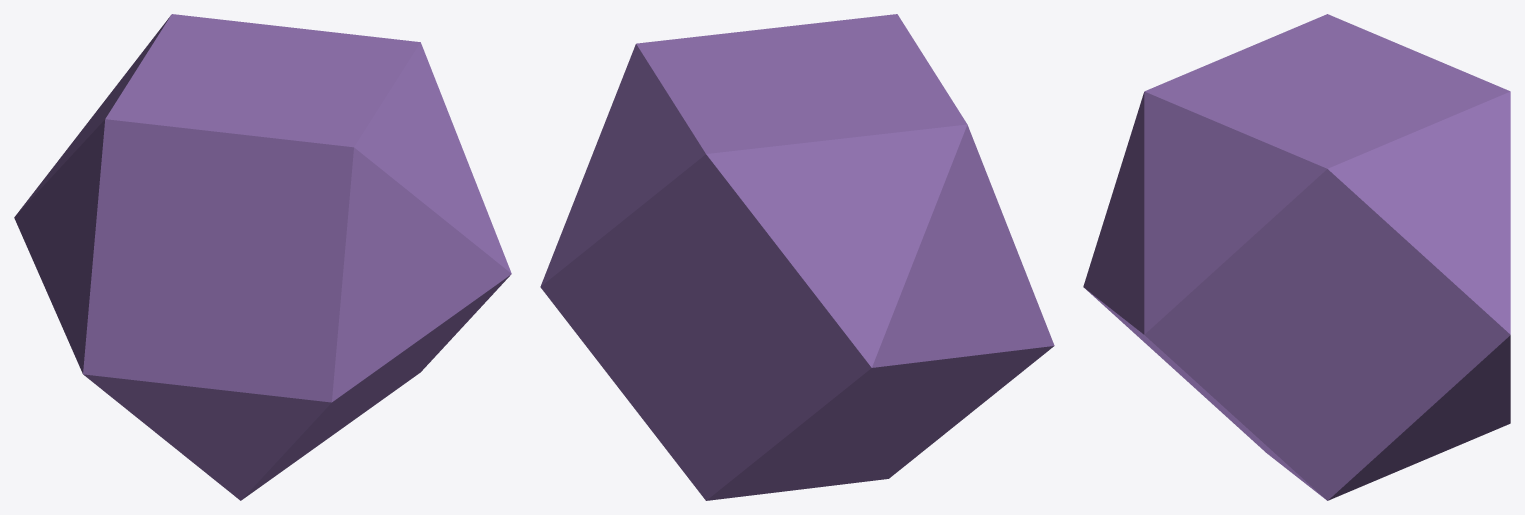
File: J27.OrtobicupulaTriangular.gltf
3 views of the same model, side by side, from view 1: azimuth 30°, elevation 25°; view 2: azimuth 150°, elevation 25°; view 3: azimuth 270°, elevation 25° (orthographic). The views are drawn at different scales.
Visible parts, largest first — view 1: J27.OrtobicupulaTriangular; view 2: J27.OrtobicupulaTriangular; view 3: J27.OrtobicupulaTriangular.
Part boxes in pixels (box(x1,y1,x2,y2)): J27.OrtobicupulaTriangular: box(14, 14, 511, 500); J27.OrtobicupulaTriangular: box(540, 14, 1054, 500); J27.OrtobicupulaTriangular: box(1083, 14, 1510, 500).
Size of the model in its own units: 16.5 by 16.5 by 16.5.
